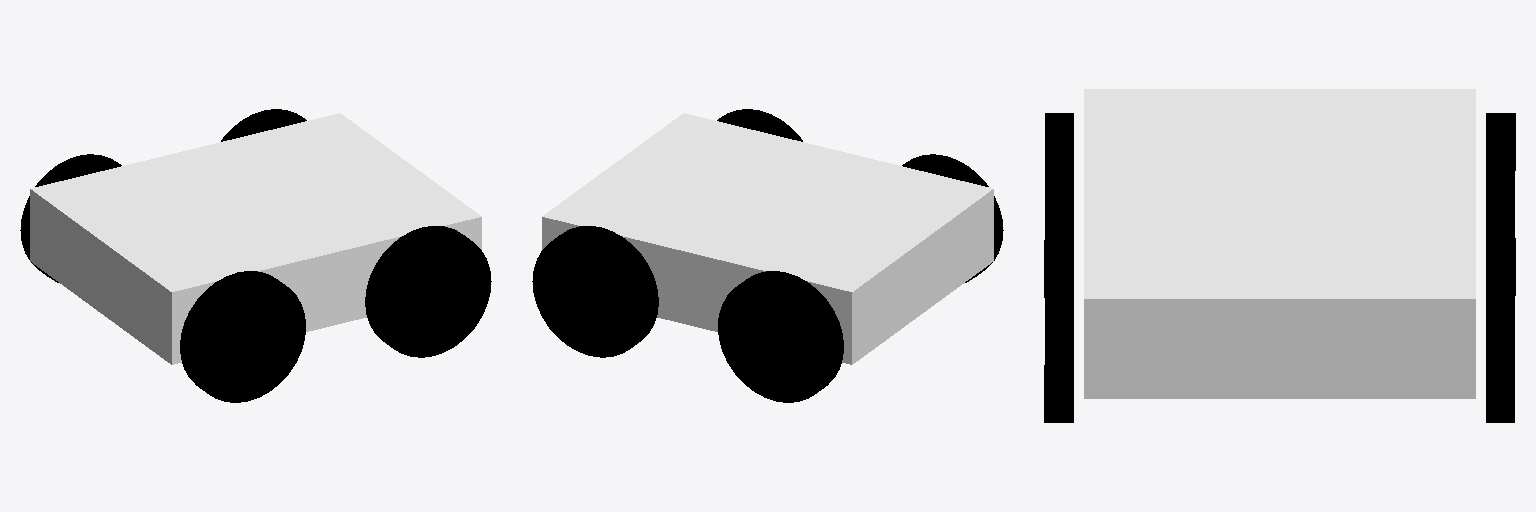
robot.urdf — wheeltec_robot:
<?xml version="1.0" ?>
<robot name="wheeltec_robot">

    <link name="base_link">
        <visual>
            <origin xyz="-0.2 0 0.16" rpy="0 0 0" />
            <geometry>
                <box size="0.67 0.53 0.150"/>
            </geometry>
            <material name="white">
                <color rgba="1 1 1 1"/>
            </material>
        </visual>
    </link>   

    <joint name="left_wheel_joint" type="continuous">
        <origin xyz="-0.4 0.298 0.125" rpy="1.57 0 0"/>
        <parent link="base_link"/>
        <child link="left_wheel_link"/>
        <axis xyz="0 1 0"/>
    </joint>

    <link name="left_wheel_link">
        <visual>
            <origin xyz="0 0 0" rpy="0 0 0" />
            <geometry>
                <cylinder radius="0.125" length = "0.04"/>
            </geometry>
            <material name="black">
                <color rgba="0 0 0 1"/>
            </material>
        </visual>
    </link>

    <joint name="right_wheel_joint" type="continuous">
        <origin xyz="-0.4 -0.298 0.125" rpy="1.57 0 0"/>
        <parent link="base_link"/>
        <child link="right_wheel_link"/>
        <axis xyz="0 1 0"/>
    </joint>

    <link name="right_wheel_link">
        <visual>
            <origin xyz="0 0 0" rpy="0 0 0" />
            <geometry>
                <cylinder radius="0.125" length = "0.04"/>
            </geometry>
            <material name="black">
                <color rgba="0 0 0 1"/>
            </material>
        </visual>
    </link>

      <joint name="left_front_joint" type="continuous">
        <origin xyz="0.0 0.298 0.125" rpy="1.57 0 0"/>
        <parent link="base_link"/>
        <child link="left_front_link"/>
        <axis xyz="0 1 0"/>
    </joint>

    <link name="left_front_link">
        <visual>
            <origin xyz="0 0 0" rpy="0 0 0" />
            <geometry>
                <cylinder radius="0.125" length = "0.04"/>
            </geometry>
            <material name="black">
                <color rgba="0 0 0 1"/>
            </material>
        </visual>
    </link>

    <joint name="right_front_joint" type="continuous">
        <origin xyz="0.0 -0.298 0.125" rpy="1.57 0 0"/>
        <parent link="base_link"/>
        <child link="right_front_link"/>
        <axis xyz="0 1 0"/>
    </joint>

    <link name="right_front_link">
        <visual>
            <origin xyz="0 0 0" rpy="0 0 0" />
            <geometry>
                <cylinder radius="0.125" length = "0.04"/>
            </geometry>
            <material name="black">
                <color rgba="0 0 0 1"/>
            </material>
        </visual>
    </link>


</robot>

--- Facts derived from the render (not from the file) ---
3 views of the same robot in one strip: view 1: azimuth 30°, elevation 25°; view 2: azimuth 150°, elevation 25°; view 3: azimuth 270°, elevation 25° (orthographic).
Model wheeltec_robot with 5 links and 4 joints (4 continuous), rooted at base_link, posed every joint at zero.
Visible links, largest first — view 1: base_link, right_front_link, right_wheel_link, left_wheel_link, left_front_link; view 2: base_link, left_wheel_link, left_front_link, right_wheel_link, right_front_link; view 3: base_link, left_front_link, right_front_link, left_wheel_link, right_wheel_link.
Boxes of the visible links, x1=… form: base_link: x1=30, y1=113, x2=481, y2=364; right_front_link: x1=365, y1=226, x2=491, y2=357; right_wheel_link: x1=180, y1=271, x2=305, y2=402; left_wheel_link: x1=20, y1=154, x2=121, y2=282; left_front_link: x1=221, y1=109, x2=306, y2=141; base_link: x1=542, y1=113, x2=993, y2=364; left_wheel_link: x1=718, y1=271, x2=843, y2=402; left_front_link: x1=532, y1=226, x2=658, y2=357; right_wheel_link: x1=902, y1=154, x2=1003, y2=282; right_front_link: x1=717, y1=109, x2=802, y2=141; base_link: x1=1084, y1=89, x2=1475, y2=398; left_front_link: x1=1486, y1=238, x2=1515, y2=422; right_front_link: x1=1044, y1=238, x2=1073, y2=422; left_wheel_link: x1=1486, y1=113, x2=1515, y2=237; right_wheel_link: x1=1044, y1=113, x2=1073, y2=297.
Bounding box of the posed robot: 0.67 × 0.6362 × 0.25 m (x, y, z).
Geometry: primitives only (box / cylinder / sphere), no mesh files.